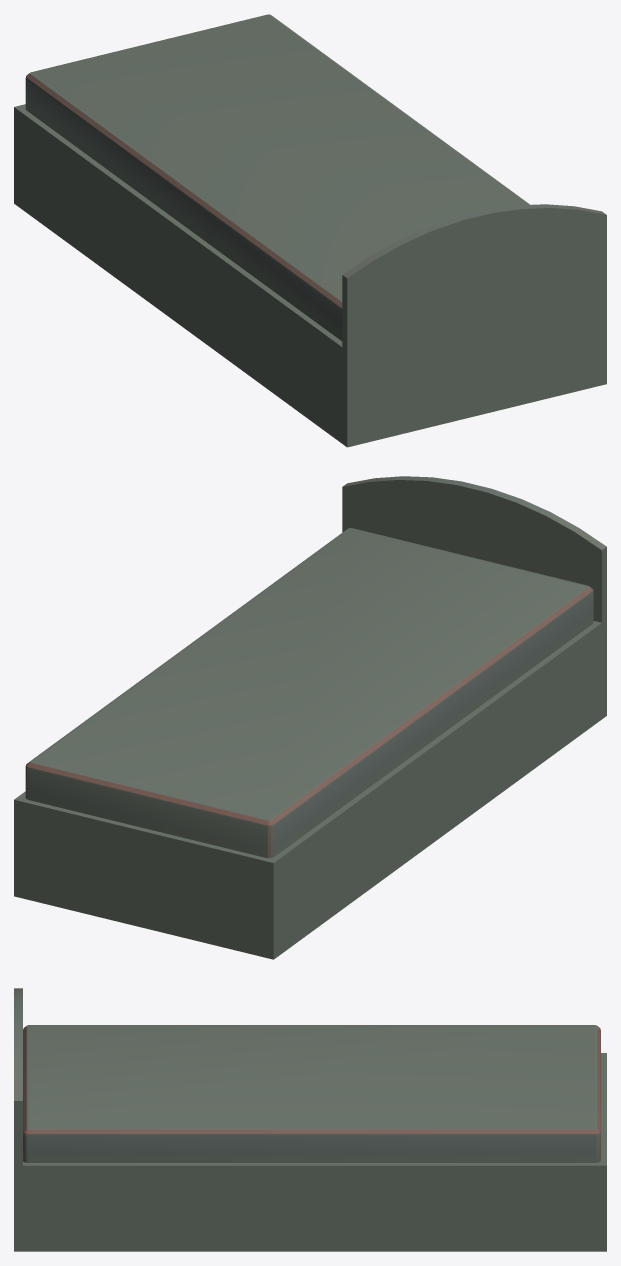
File: SingleBed.fbx
3 renders of one model, top to bottom at view 1: azimuth 30°, elevation 25°; view 2: azimuth 150°, elevation 25°; view 3: azimuth 270°, elevation 25°, orthographic. The views are drawn at different scales.
Visible parts, largest first — view 1: SingleBed; view 2: SingleBed; view 3: SingleBed.
Boxes of the visible parts, bbox=[...] form: SingleBed: bbox=[14, 14, 606, 447]; SingleBed: bbox=[14, 476, 606, 959]; SingleBed: bbox=[14, 988, 606, 1251].
Bounding box in the file's own units: 35.43 × 25.93 × 78.74.
